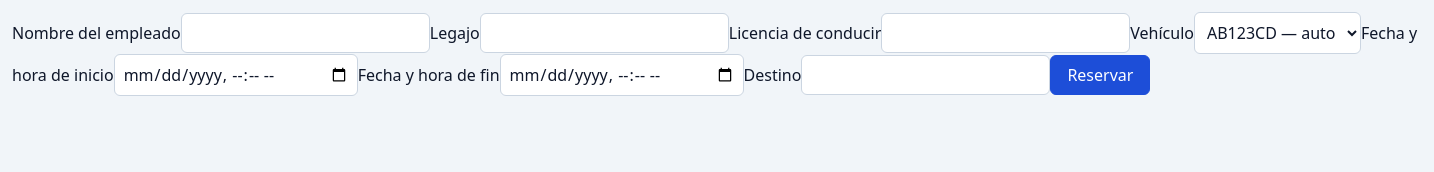
Test: ReservaForm › no envía la request si falta un campo obligatorio
Solo completa el nombre, deja el resto vacío.
Type "Juan Pérez" into the field labelled "Nombre del empleado" at (305, 33), box [181,13,430,53]
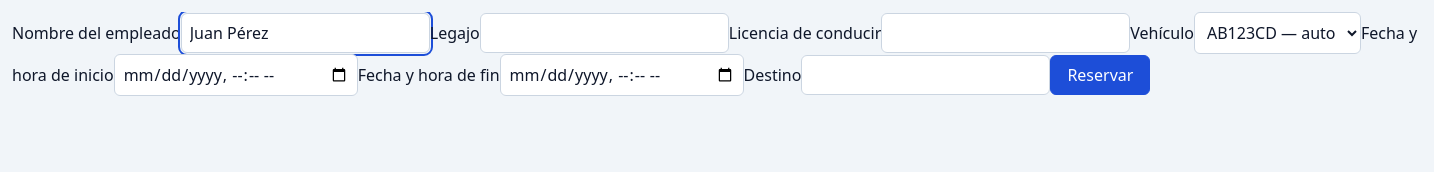
Click the button "Reservar" at (1100, 75), box [1050,55,1150,95]
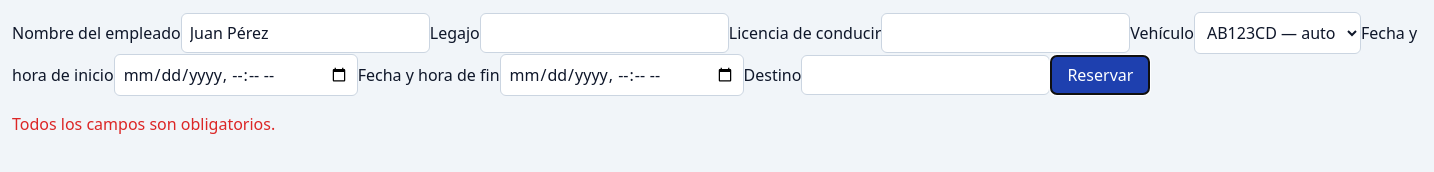
Check: the message shows "obligatorio", box [12,113,275,135]
